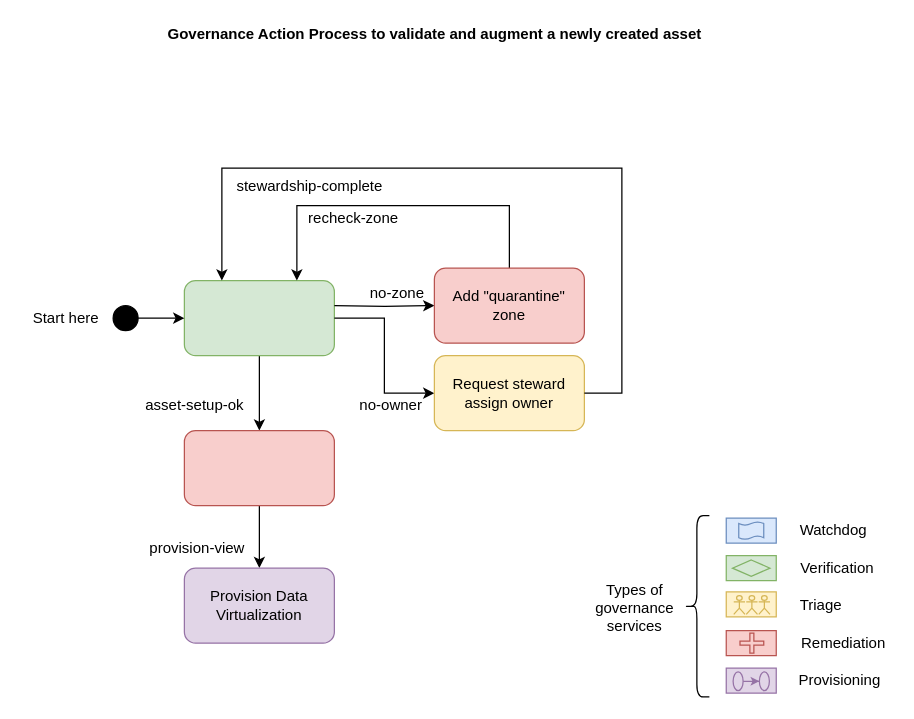
Some shapes in this 914 by 719 pixel diagram are drawn without their labels. The shapes that lost their labels are listed below. From the top down, each one's centre as x and y in pixels, then its label:
[258,317]: Validate Asset
[258,467]: Publish Asset
